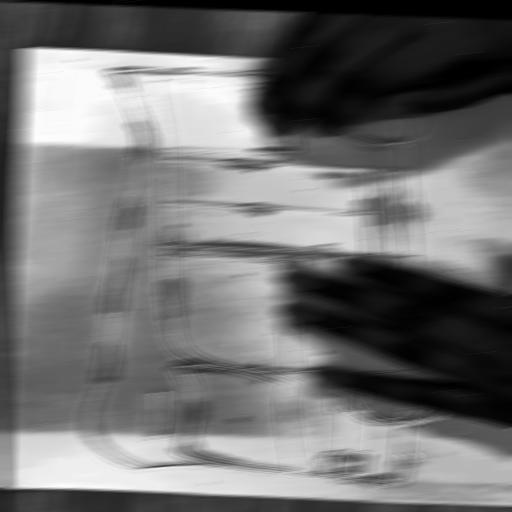bus: (74, 58, 475, 492)
top_left: (15, 43, 36, 50)
top_right: (0, 483, 17, 493)
